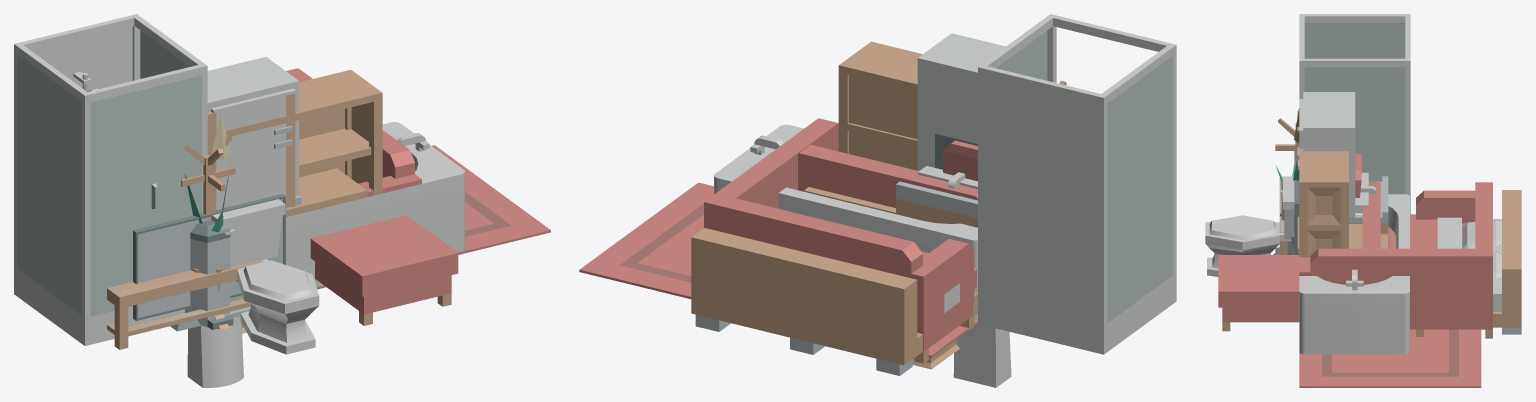
Rendered from furniture.glb.
The picture shows the model from 3 angles, left to right: view 1: azimuth 30°, elevation 25°; view 2: azimuth 150°, elevation 25°; view 3: azimuth 270°, elevation 25°; orthographic projection. The views are drawn at different scales.
Visible parts, largest first — view 1: shower, loungeSofaLong, kitchenFridge, bathtub, bookcaseClosedWide, toilet, televisionModern, tableCoffee, rugRectangle, bathroomSink, trashcan, desk (+5 smaller); view 2: shower, bedDouble, loungeSofaCorner, bedSingle, bookcaseClosedWide, rugRectangle, kitchenFridge, bathtub, loungeSofaLong, bathroomSink, kitchenStove, chairDesk (+4 smaller); view 3: shower, loungeSofaCorner, bathtub, rugRectangle, loungeSofaLong, bookcaseClosedWide, bedDouble, kitchenFridge, toilet, bedSingle, loungeSofa, kitchenSink (+6 smaller).
Part boxes in pixels (x1=…): shower: x1=14, y1=14, x2=207, y2=345; loungeSofaLong: x1=310, y1=215, x2=458, y2=325; kitchenFridge: x1=207, y1=57, x2=299, y2=209; bathtub: x1=286, y1=122, x2=464, y2=286; bookcaseClosedWide: x1=207, y1=69, x2=382, y2=210; toilet: x1=211, y1=199, x2=319, y2=354; televisionModern: x1=133, y1=194, x2=285, y2=331; tableCoffee: x1=107, y1=260, x2=263, y2=349; rugRectangle: x1=316, y1=145, x2=550, y2=289; bathroomSink: x1=187, y1=316, x2=243, y2=387; trashcan: x1=185, y1=220, x2=233, y2=329; desk: x1=286, y1=168, x2=367, y2=216; shower: x1=978, y1=14, x2=1176, y2=354; bedDouble: x1=691, y1=228, x2=977, y2=375; loungeSofaCorner: x1=704, y1=118, x2=974, y2=363; bedSingle: x1=691, y1=233, x2=830, y2=354; bookcaseClosedWide: x1=838, y1=41, x2=922, y2=170; rugRectangle: x1=579, y1=182, x2=977, y2=357; kitchenFridge: x1=917, y1=33, x2=1005, y2=170; bathtub: x1=714, y1=124, x2=977, y2=320; loungeSofaLong: x1=798, y1=145, x2=977, y2=207; bathroomSink: x1=953, y1=324, x2=1011, y2=387; kitchenStove: x1=896, y1=184, x2=977, y2=227; chairDesk: x1=942, y1=140, x2=977, y2=181; shower: x1=1295, y1=14, x2=1410, y2=214; loungeSofaCorner: x1=1299, y1=182, x2=1492, y2=338; bathtub: x1=1299, y1=194, x2=1409, y2=354; rugRectangle: x1=1299, y1=329, x2=1481, y2=387; loungeSofaLong: x1=1218, y1=207, x2=1380, y2=331; bookcaseClosedWide: x1=1299, y1=149, x2=1348, y2=257; bedDouble: x1=1388, y1=190, x2=1521, y2=334; kitchenFridge: x1=1297, y1=92, x2=1355, y2=217; toilet: x1=1205, y1=176, x2=1294, y2=276; bedSingle: x1=1437, y1=223, x2=1521, y2=327; loungeSofa: x1=1308, y1=207, x2=1380, y2=284; kitchenSink: x1=1349, y1=176, x2=1388, y2=222.
Bounding box in the file's own units: 2.13 × 1.49 × 1.6.
